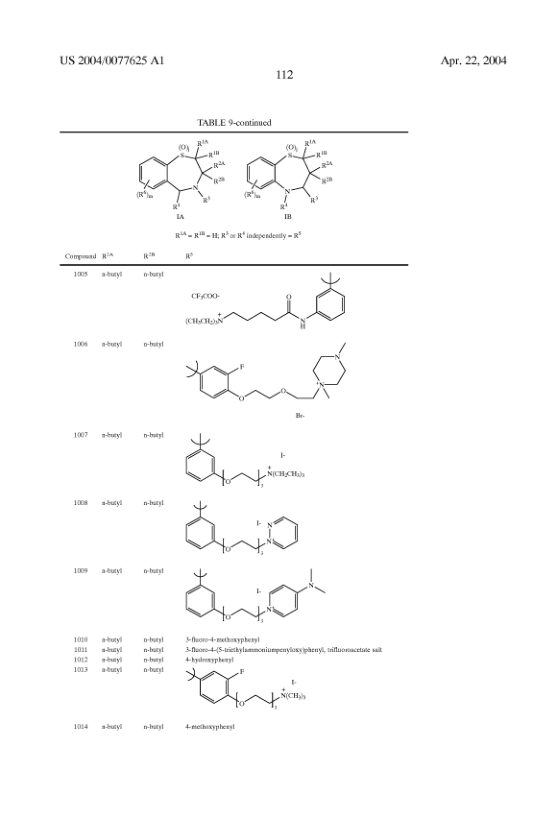compound-structure: (177, 340, 364, 418), (176, 271, 354, 336), (179, 423, 322, 489), (179, 558, 325, 621), (128, 135, 228, 223), (239, 137, 333, 225), (179, 495, 300, 554), (180, 663, 309, 710)
